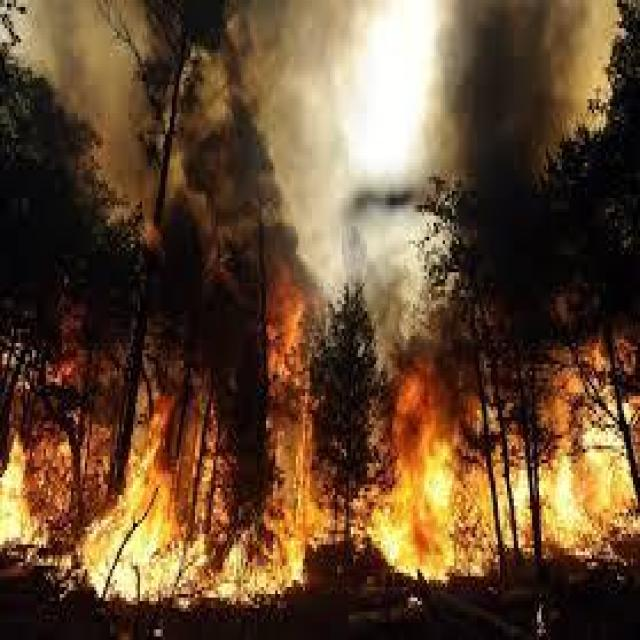fire: (1, 422, 640, 620)
smoke: (59, 0, 371, 293), (435, 0, 602, 262)
